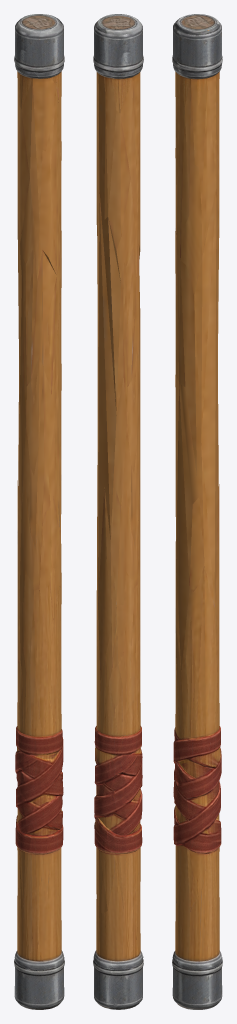
The model's file is staff_1.glb.
3 renders of one model, left to right at view 1: azimuth 90°, elevation 25°; view 2: azimuth 150°, elevation 25°; view 3: azimuth 270°, elevation 25°, orthographic.
Visible parts, largest first — view 1: output_unwrapped; view 2: output_unwrapped; view 3: output_unwrapped.
Part boxes in pixels (box(x1,y1,x2,y2)): output_unwrapped: box(14, 14, 64, 1009); output_unwrapped: box(93, 14, 143, 1009); output_unwrapped: box(172, 14, 222, 1009).
Size of the model in its own units: 0.0898 by 1.9 by 0.0897.
Materials: 1 (1 with a texture image).
